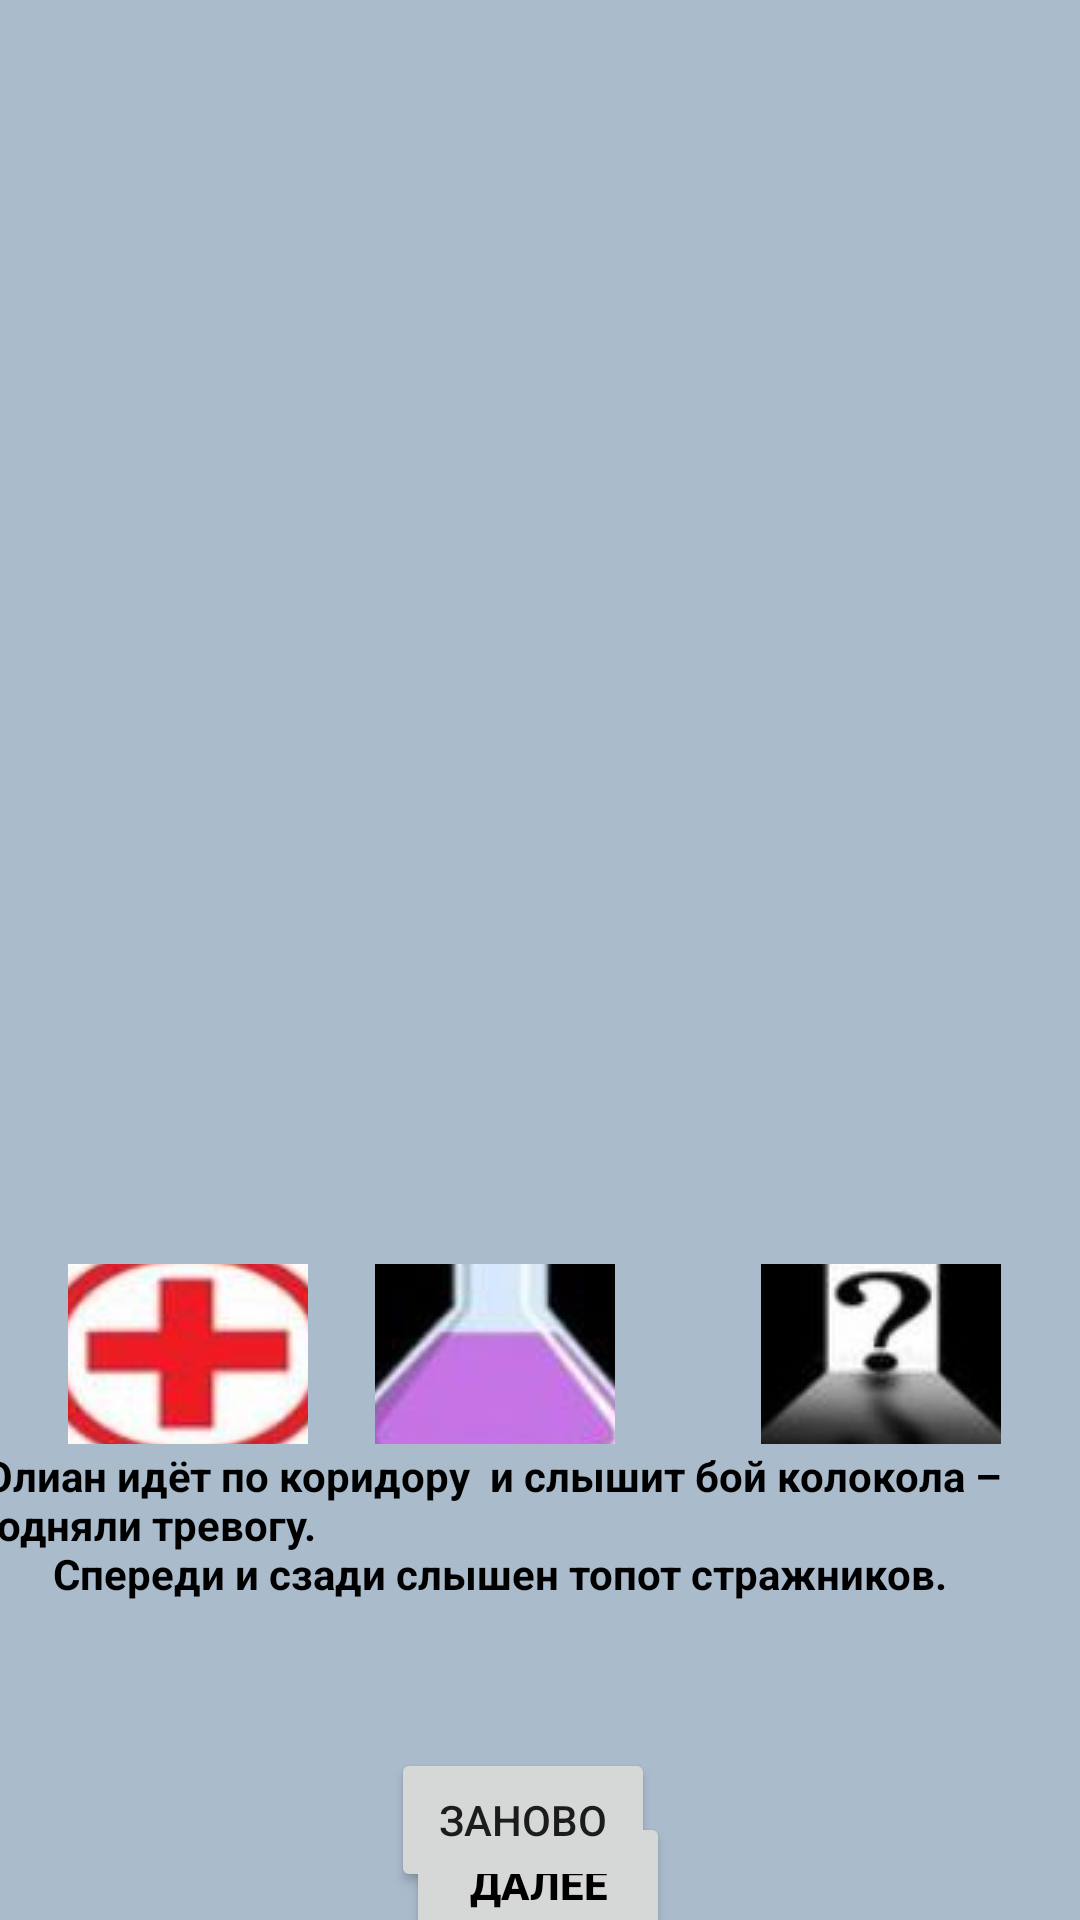

Icons on this 1080w x 1920h Android screen, each with its box as (x1, y1, x2, y2):
kolba: (375, 1264, 615, 1444)
plus: (68, 1264, 308, 1444)
secret: (761, 1264, 1001, 1444)
